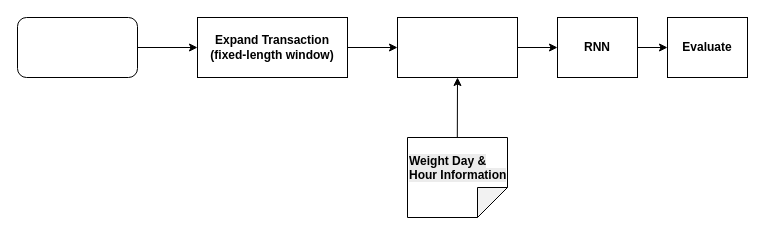
This 765x235 diagram has some shape labels left out. The box of each missing label's shape, as (x1, y1, x2, y2) in pixels:
Channel-wise Feature Attention: (396, 16, 518, 78)
Raw Transaction: (16, 16, 138, 78)
